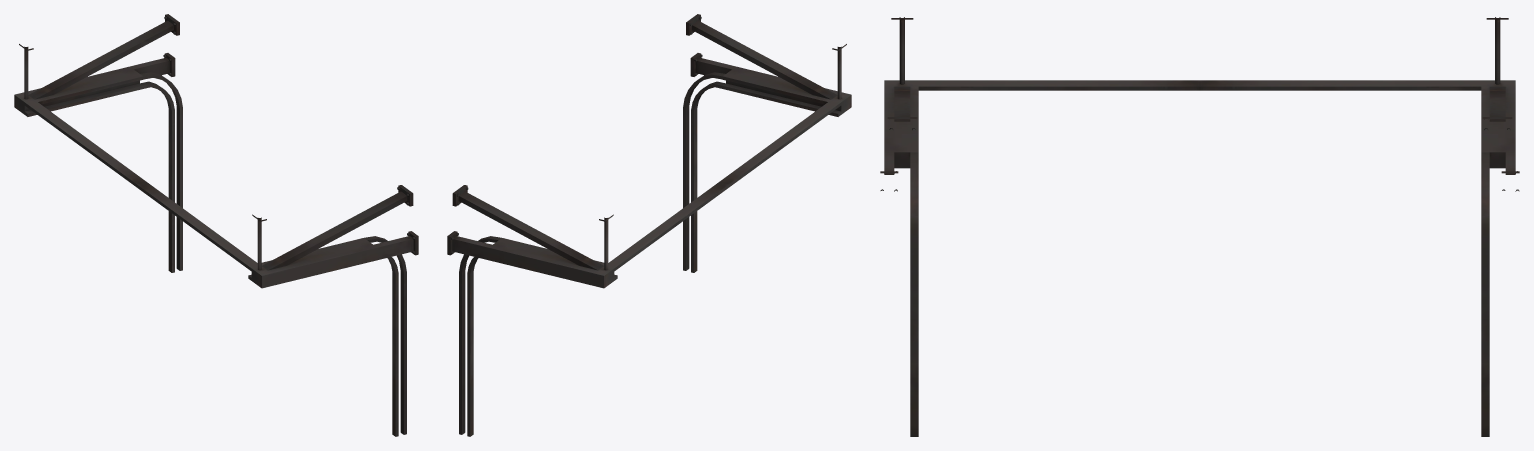
3 views of the same model, side by side, from view 1: azimuth 30°, elevation 25°; view 2: azimuth 150°, elevation 25°; view 3: azimuth 270°, elevation 25° (orthographic). The views are drawn at different scales.
Visible parts, largest first — view 1: body0_model0_lod0_mesh0; view 2: body0_model0_lod0_mesh0; view 3: body0_model0_lod0_mesh0.
Part boxes in pixels (<box>): body0_model0_lod0_mesh0: <box>14,14,418,436</box>; body0_model0_lod0_mesh0: <box>447,14,851,436</box>; body0_model0_lod0_mesh0: <box>880,17,1519,436</box>.
Size of the model in its own units: 122 by 192 by 340.
1 material, 1 textured.
